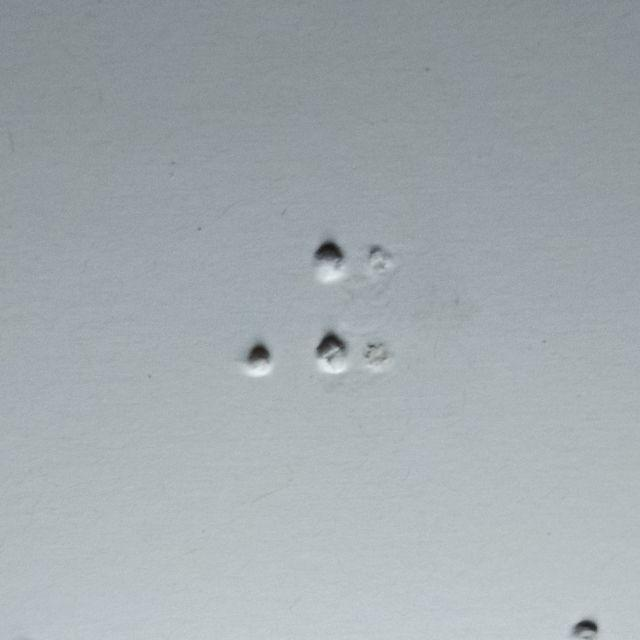K: (317, 243, 402, 375)
capital: (186, 252, 274, 378)
